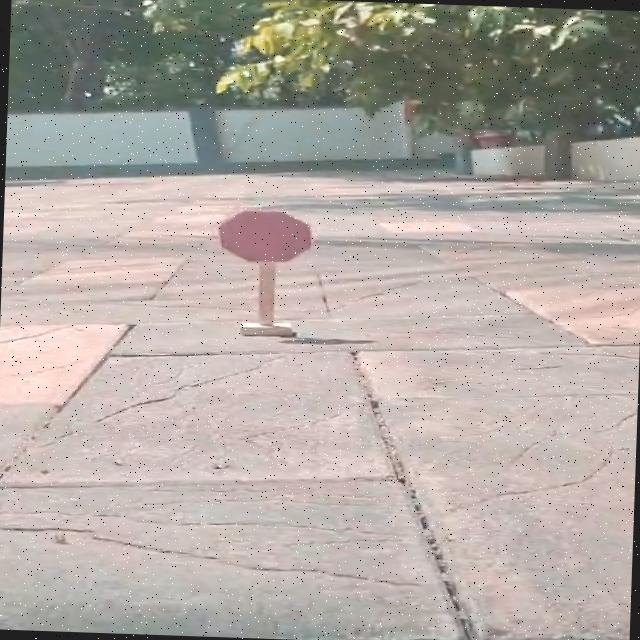Stop: (208, 196, 335, 274)
